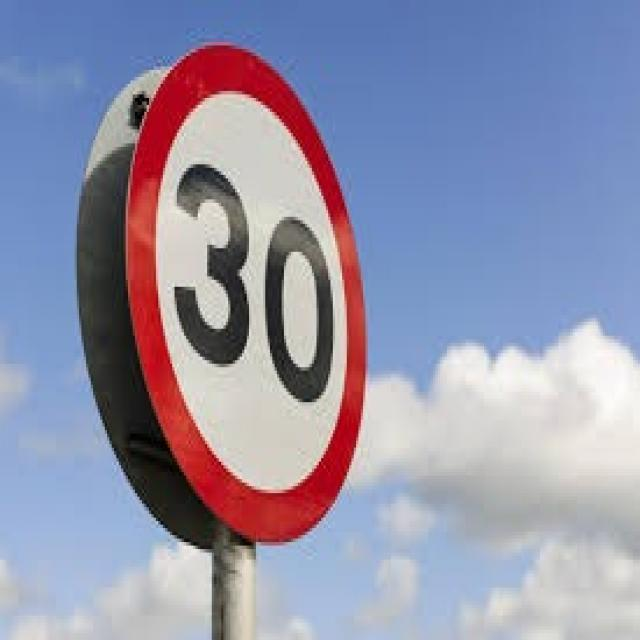speed_limit_30: (121, 37, 369, 546)
